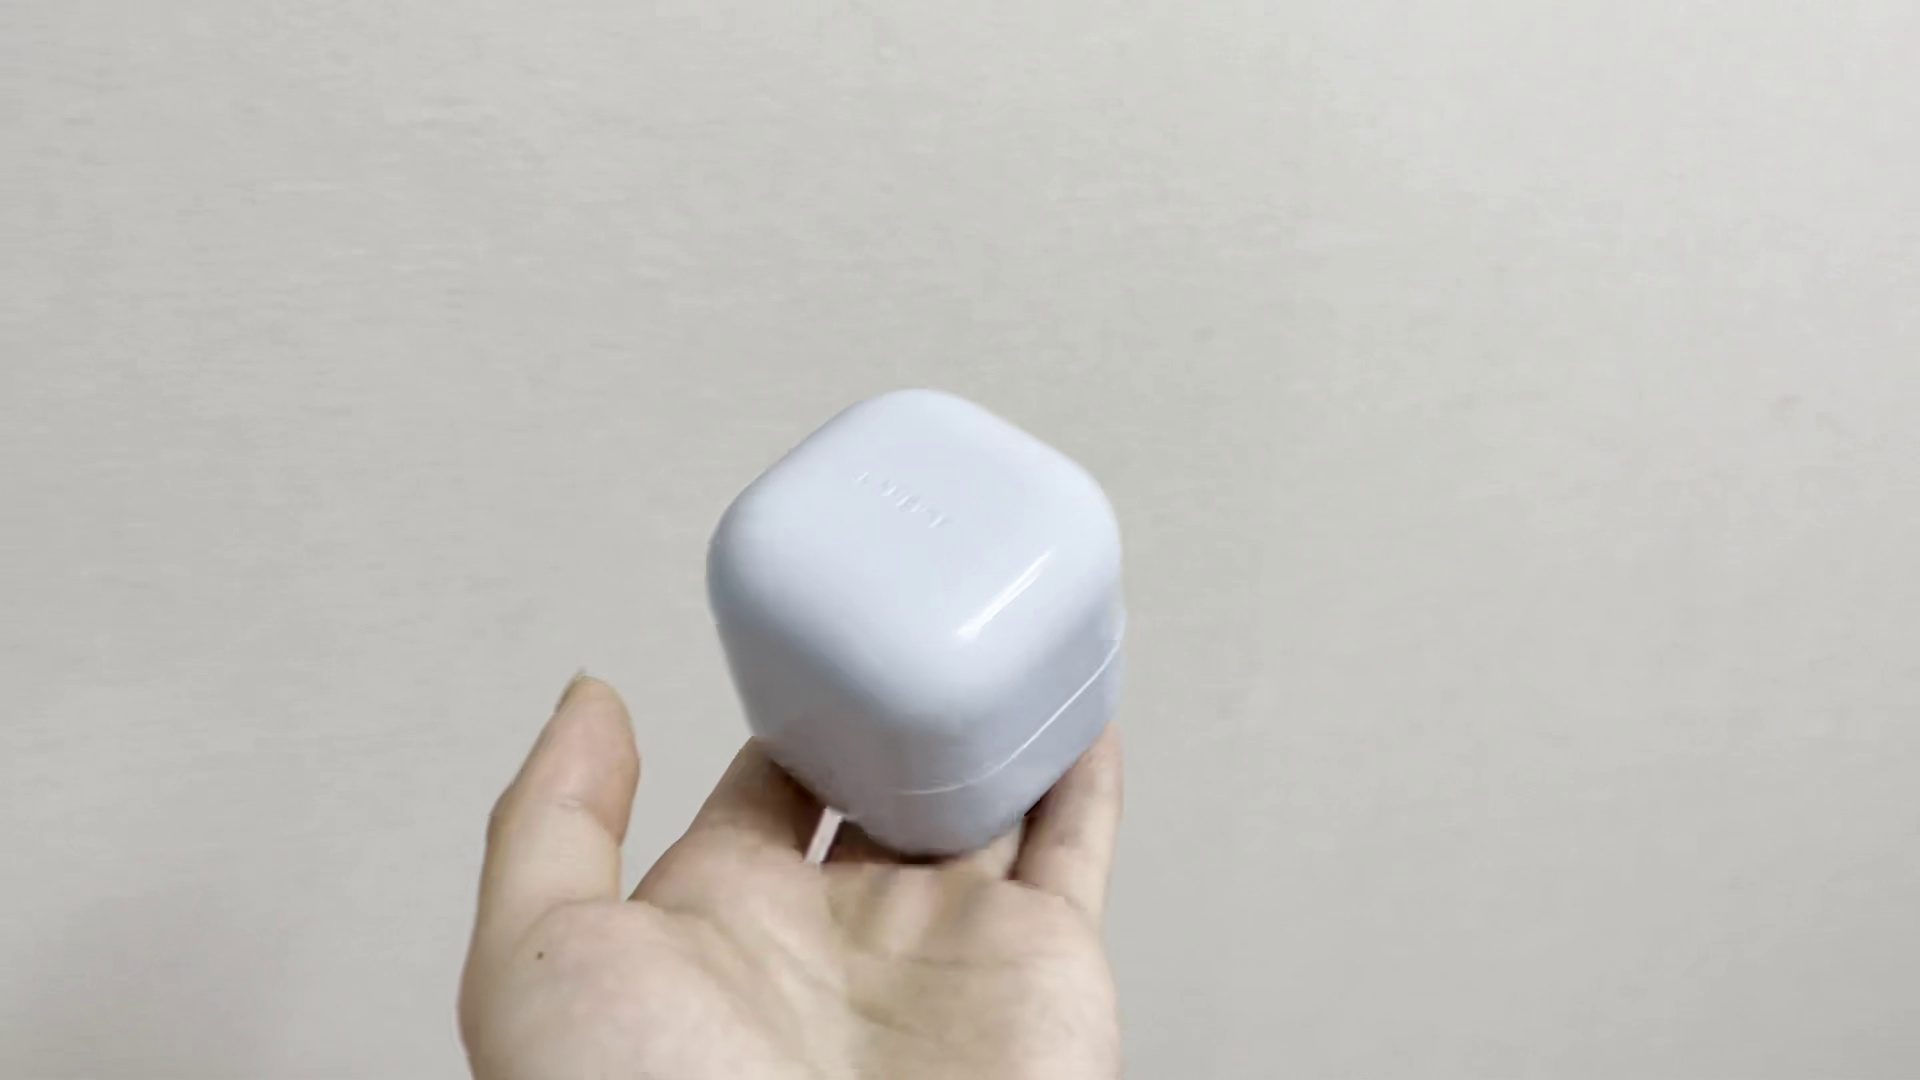cream: (716, 392, 1131, 855)
